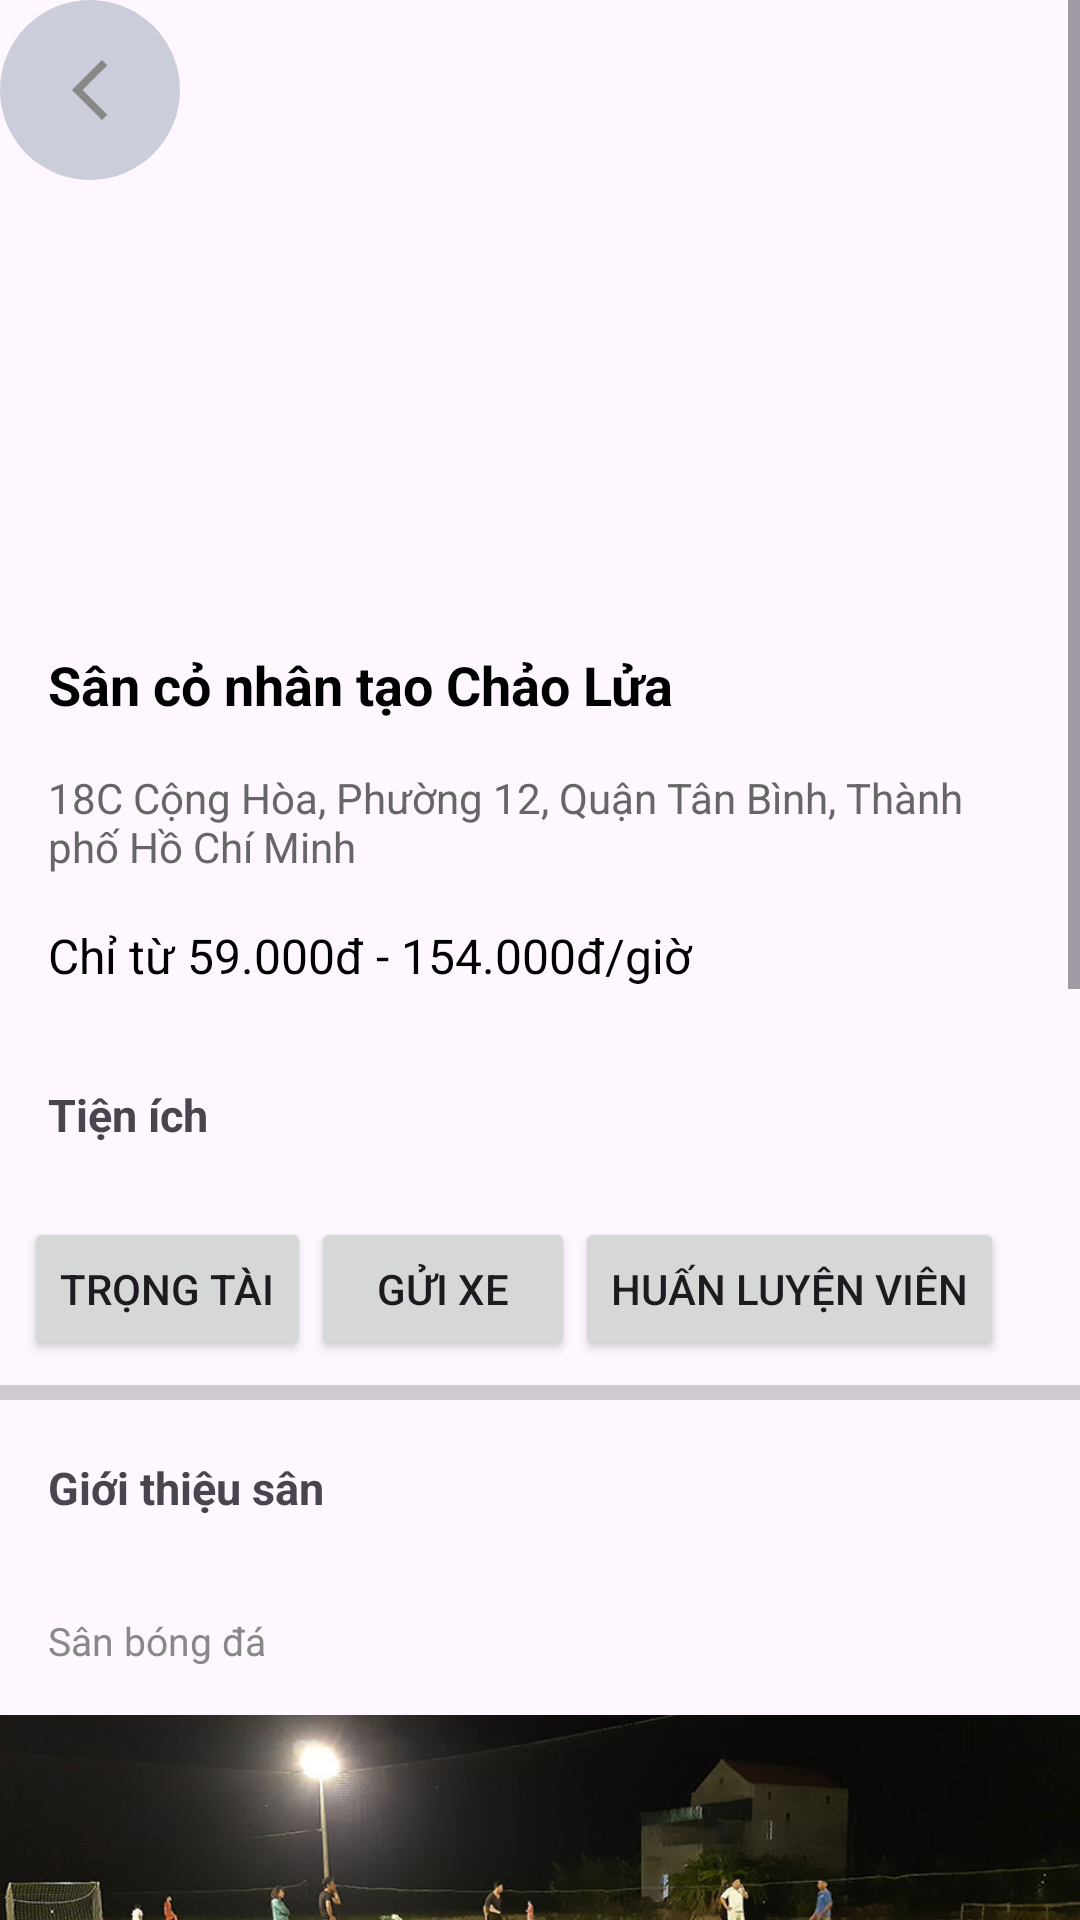

Icons on this 1080px x 1920px Android screen, each with its box as (x1, y1, x2, y2):
back: (72, 60, 107, 120)
